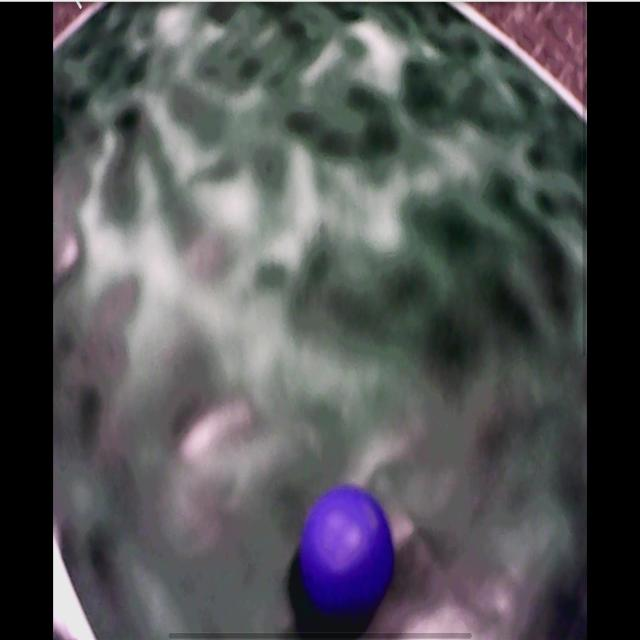ball: (304, 487, 393, 615)
